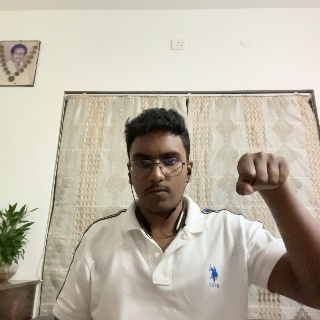Face: (125, 118, 192, 212)
Yes: (234, 150, 290, 220)
